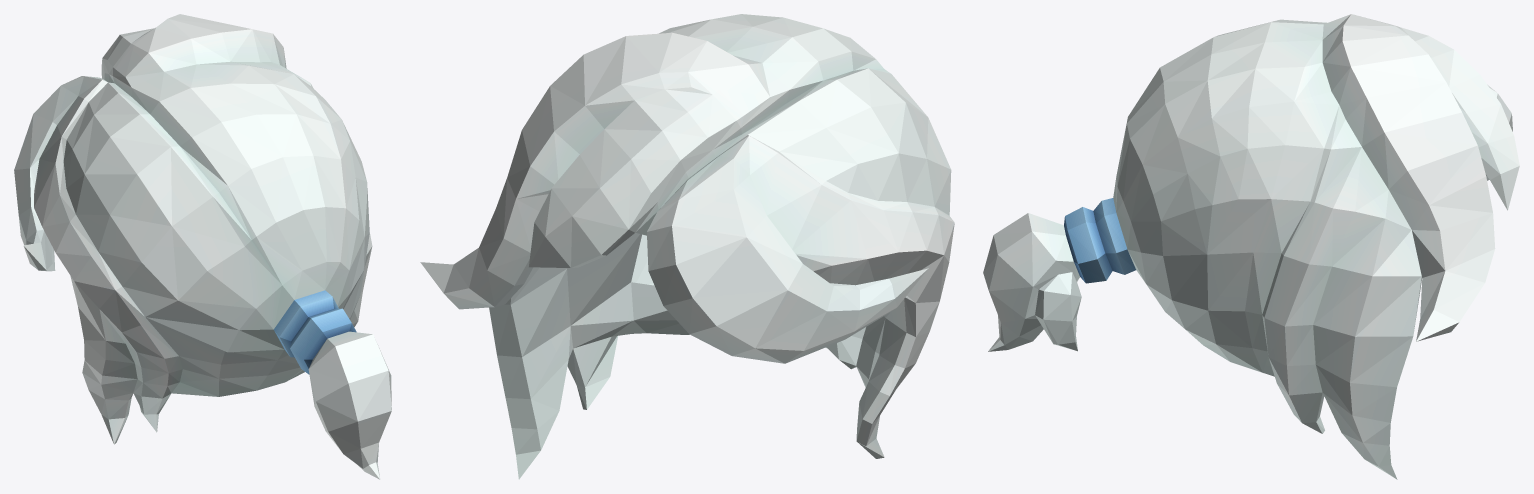
The model's file is CharSkyKid_Hair_PonytailShaggy.glb.
3 views of the same model, side by side, from view 1: azimuth 30°, elevation 25°; view 2: azimuth 150°, elevation 25°; view 3: azimuth 270°, elevation 25° (orthographic). The views are drawn at different scales.
Parts seen in each view (by area): view 1: CharSkyKid_Hair_PonytailShaggy; view 2: CharSkyKid_Hair_PonytailShaggy; view 3: CharSkyKid_Hair_PonytailShaggy.
Boxes of the visible parts, box(x1,y1,x2,y2) form: CharSkyKid_Hair_PonytailShaggy: box(14, 14, 391, 479); CharSkyKid_Hair_PonytailShaggy: box(420, 14, 954, 479); CharSkyKid_Hair_PonytailShaggy: box(983, 14, 1519, 479).
Bounding box in the file's own units: 3.47 × 3.32 × 4.15.
Materials: 1 (1 with a texture image).
